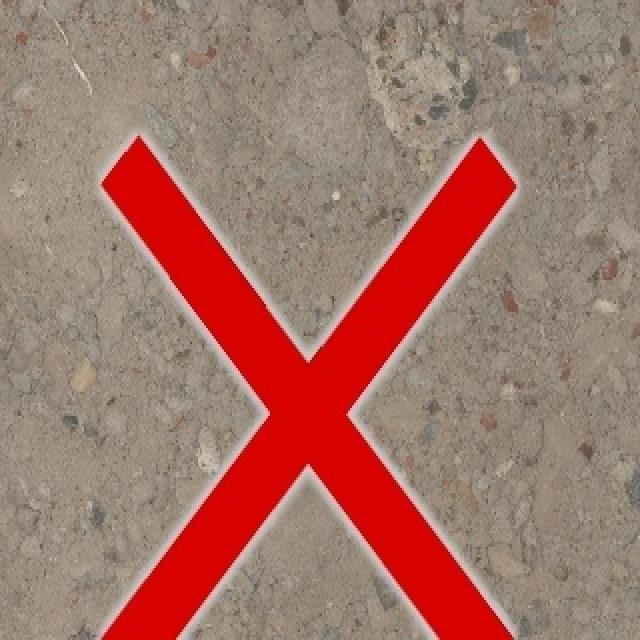x_marker: (101, 134, 515, 638)
